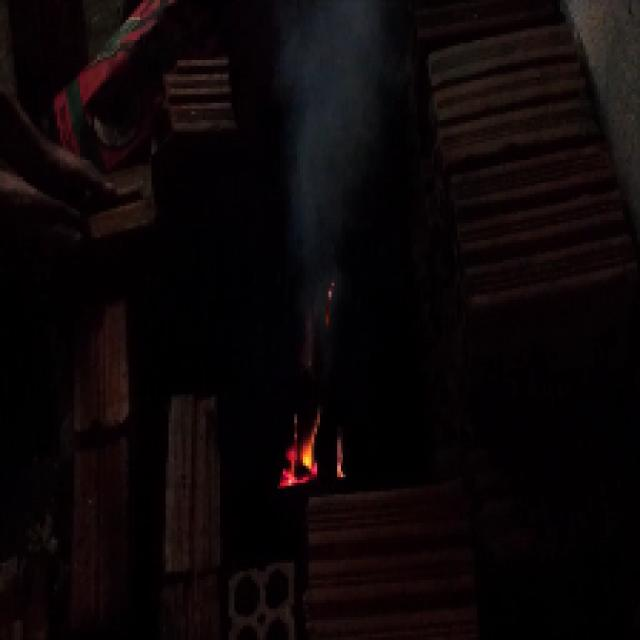fire: (278, 415, 348, 479)
smoke: (288, 11, 363, 237)
